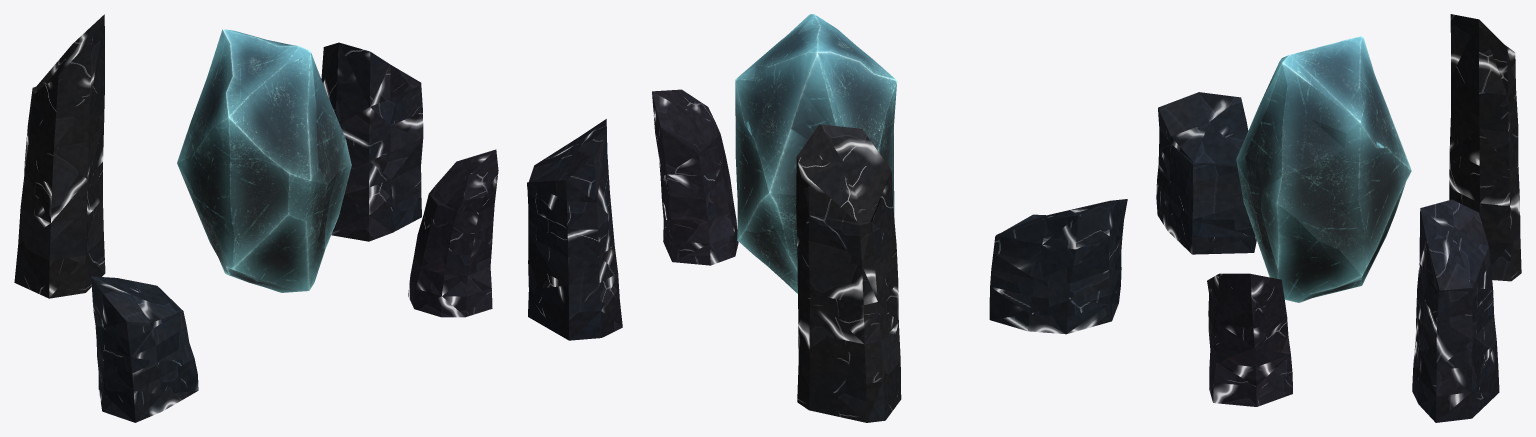
Rendered from atmosphere-monoliths.glb.
The picture shows the model from 3 angles, left to right: view 1: azimuth 30°, elevation 25°; view 2: azimuth 150°, elevation 25°; view 3: azimuth 270°, elevation 25°; orthographic projection. The views are drawn at different scales.
Parts seen in each view (by area): view 1: crystal, back, violet, left, right; view 2: back, crystal, violet, left, right; view 3: crystal, violet, back, left, right.
Boxes of the visible parts, <box> form: crystal: <box>177,29,351,292</box>; back: <box>14,14,105,298</box>; violet: <box>321,42,423,241</box>; left: <box>91,276,198,422</box>; right: <box>408,149,498,317</box>; back: <box>796,124,901,422</box>; crystal: <box>735,14,897,293</box>; violet: <box>527,119,622,340</box>; left: <box>989,199,1127,334</box>; right: <box>652,89,738,265</box>; crystal: <box>1236,36,1411,302</box>; violet: <box>1412,199,1499,422</box>; back: <box>1449,14,1521,281</box>; left: <box>1156,92,1256,254</box>; right: <box>1207,273,1292,406</box>.
Size of the model in its own units: 7.19 by 4.25 by 5.16.
Materials: 5 (5 with a texture image).
